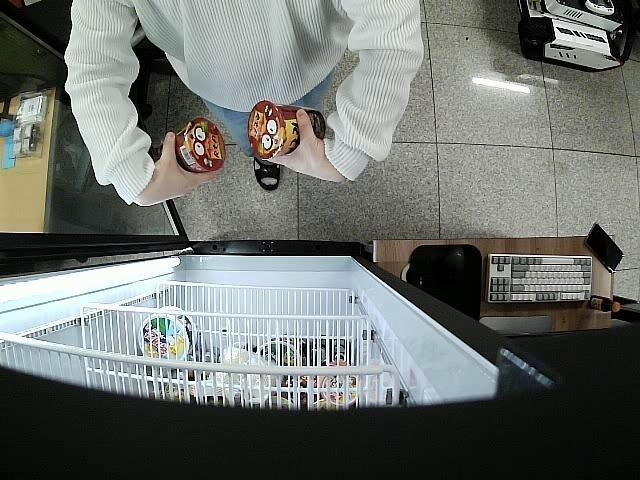06_nuguri_S: (248, 100, 326, 158), (158, 117, 226, 175)
